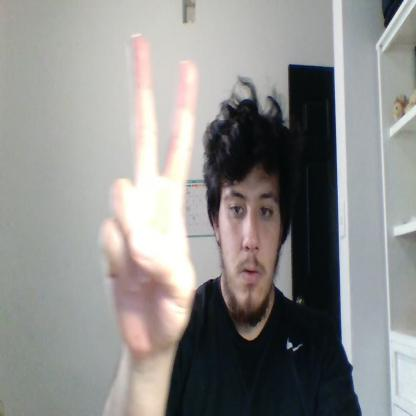V: (99, 32, 198, 355)
